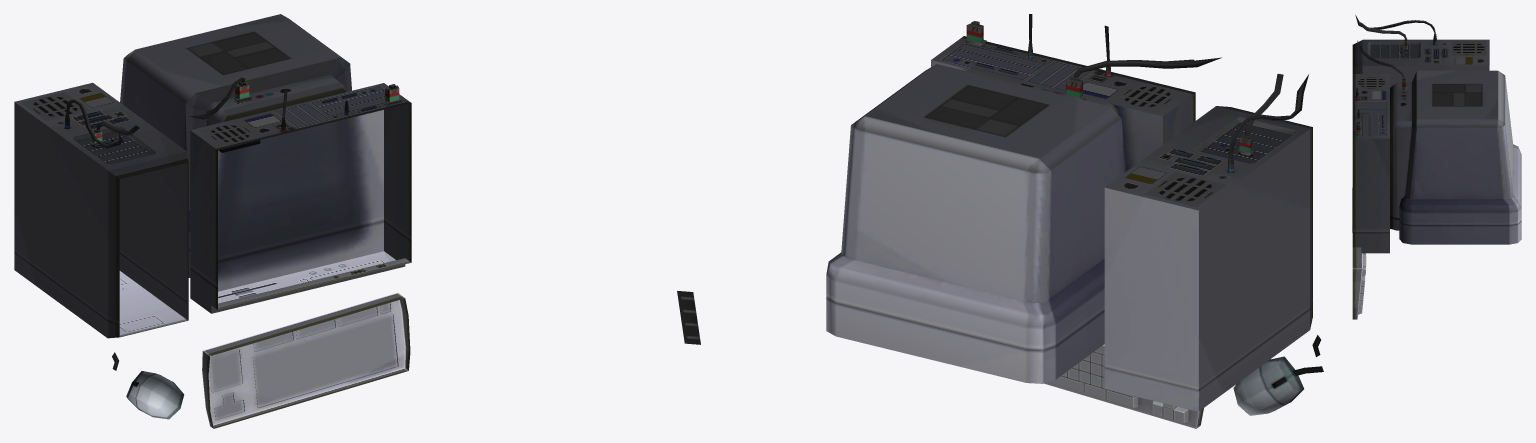
The model's file is Computer.fbx.
The picture shows the model from 3 angles, left to right: view 1: azimuth 30°, elevation 25°; view 2: azimuth 150°, elevation 25°; view 3: azimuth 270°, elevation 25°; orthographic projection. The views are drawn at different scales.
Visible parts, largest first — view 1: no_alfa, alfa; view 2: no_alfa, alfa; view 3: no_alfa, alfa.
Part boxes in pixels (x1=…): no_alfa: x1=14, y1=14, x2=411, y2=428; alfa: x1=21, y1=92, x2=259, y2=146; no_alfa: x1=826, y1=14, x2=1323, y2=428; alfa: x1=677, y1=82, x2=1226, y2=344; no_alfa: x1=1352, y1=15, x2=1521, y2=319; alfa: x1=1356, y1=41, x2=1486, y2=88.
Bounding box in the file's own units: 348 × 218 × 139.
Materials: 3 (3 with a texture image).
